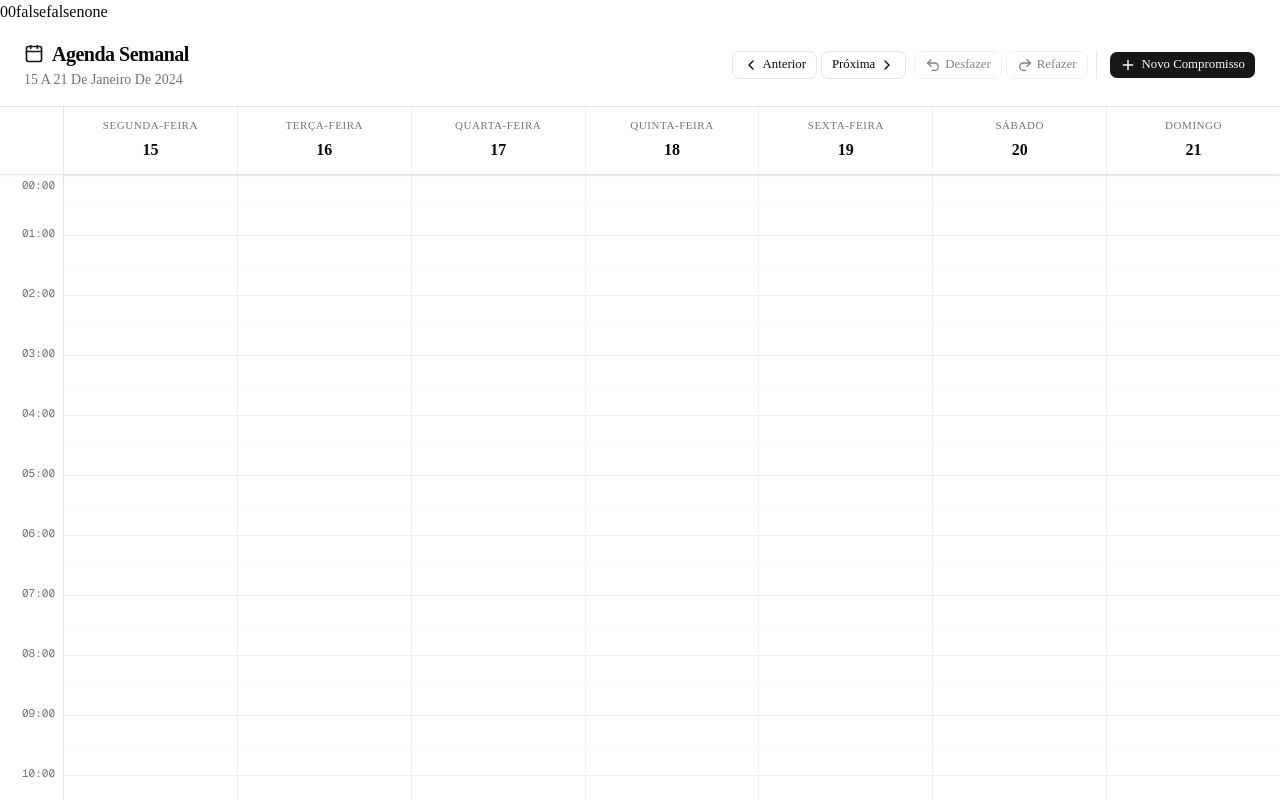
Test: Appointment CRUD & Selection Integration › automatically advances end time when start time is moved past end time
Click the button with aria-label "Adicionar novo compromisso" at (1182, 65), box [1108, 51, 1256, 79]
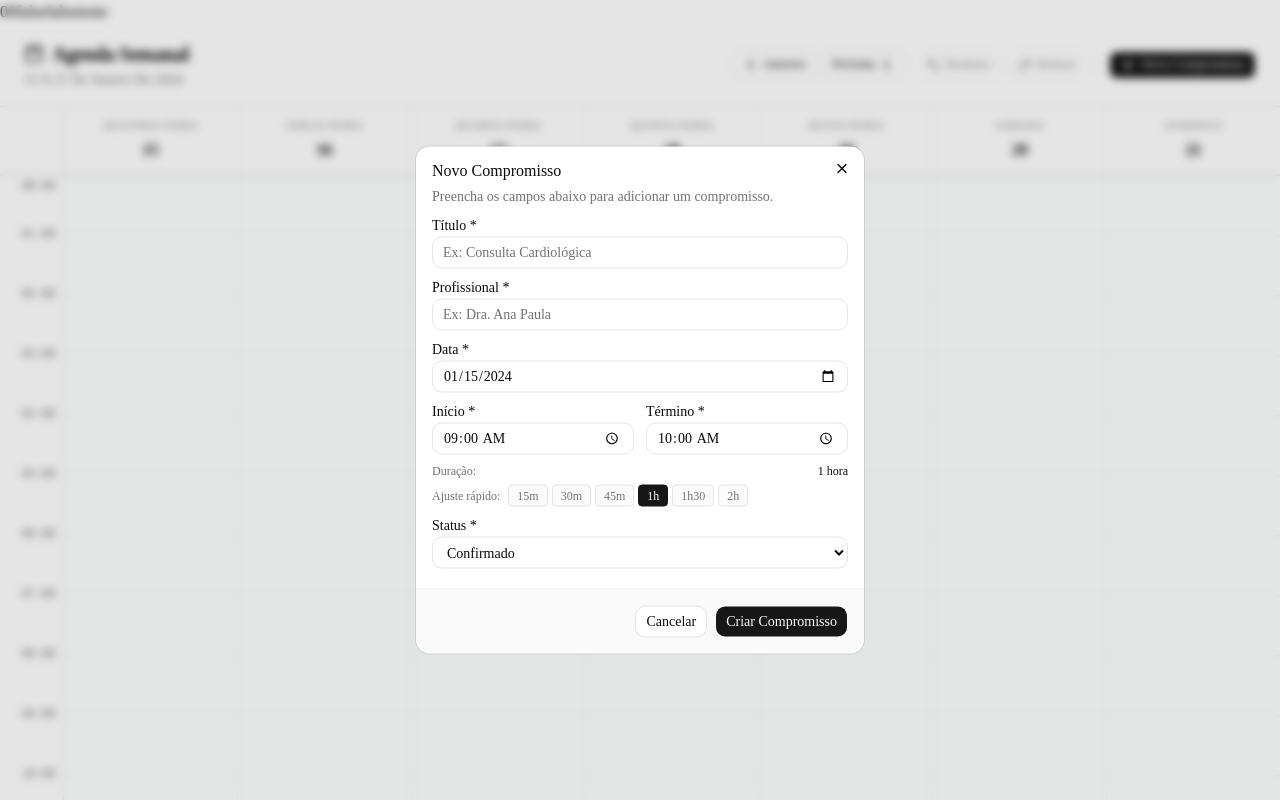
Expected: the time field labelled "Início *" holds "09:00"
Expected: the time field labelled "Término *" holds "10:00", [646, 422, 848, 454]
# Move start time to 11:00 (past previous 10:00 end time)
Replace the text in the time field labelled "Início *" with "11:00" at (533, 438), box [432, 422, 634, 454]
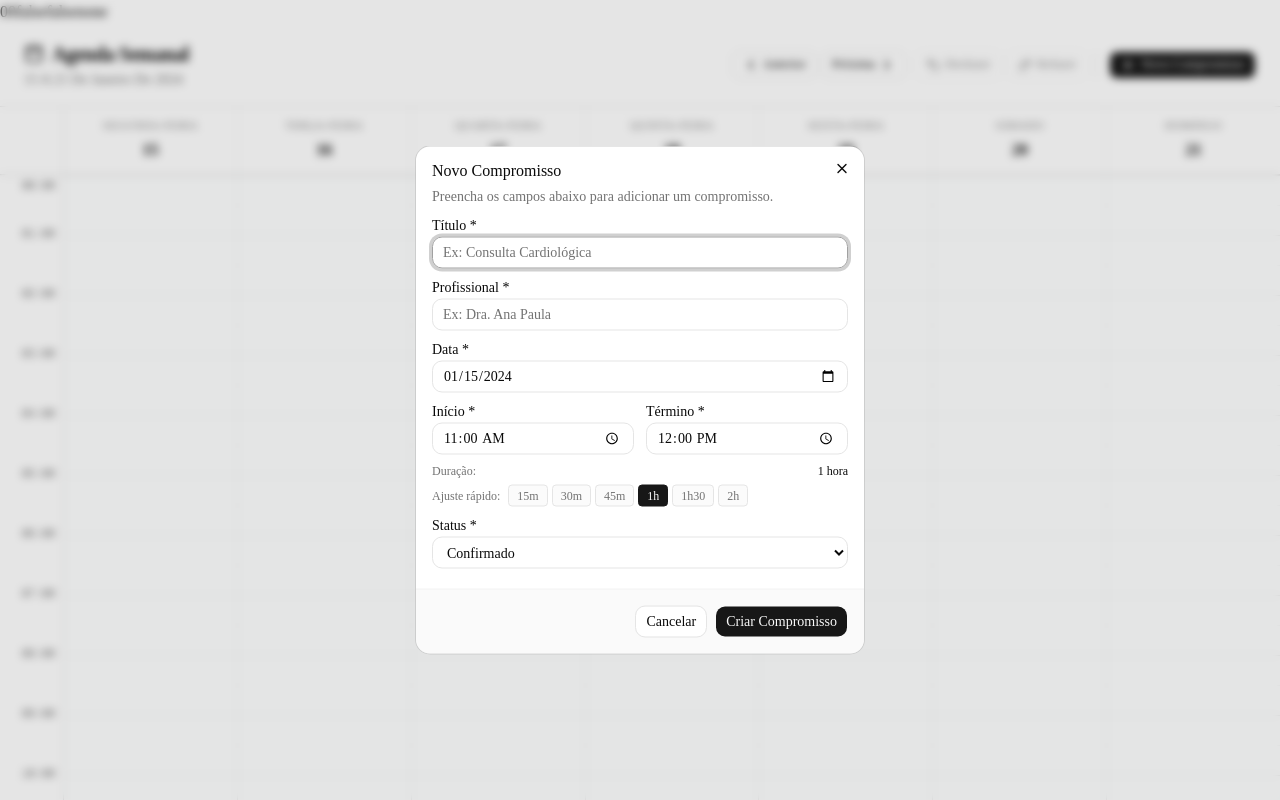
Expected: the time field labelled "Término *" holds "12:00", [646, 422, 848, 454]
